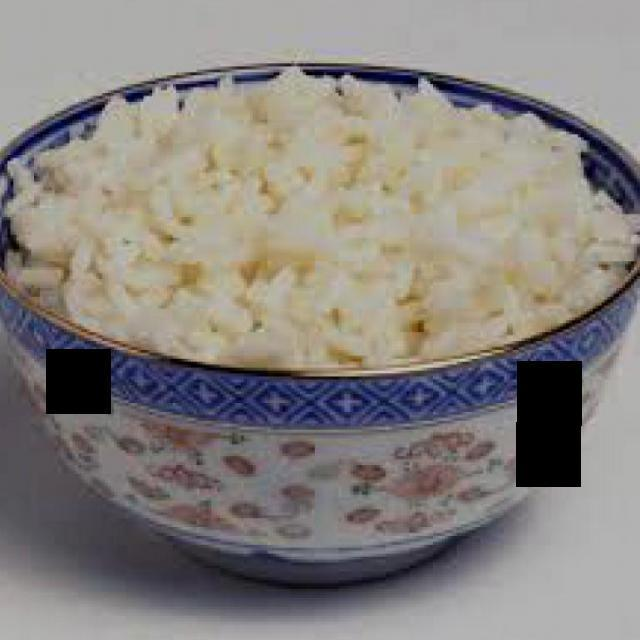Chicken -Chicken Inasal-: (13, 81, 598, 374)
